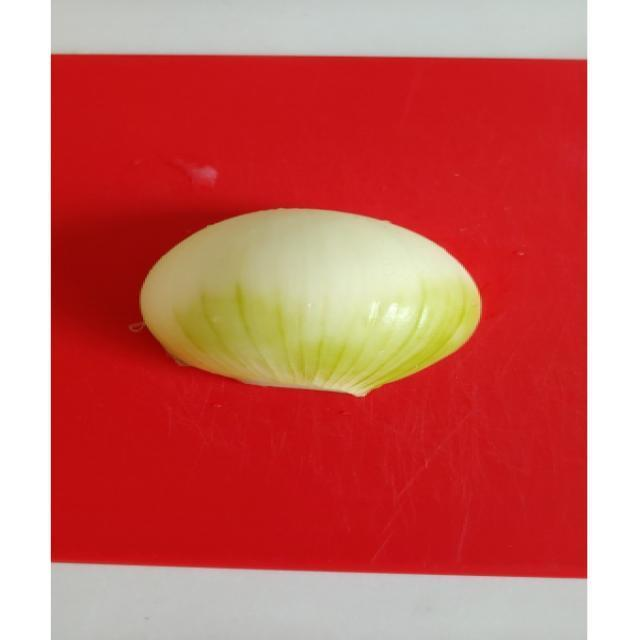onion: (128, 192, 512, 404)
